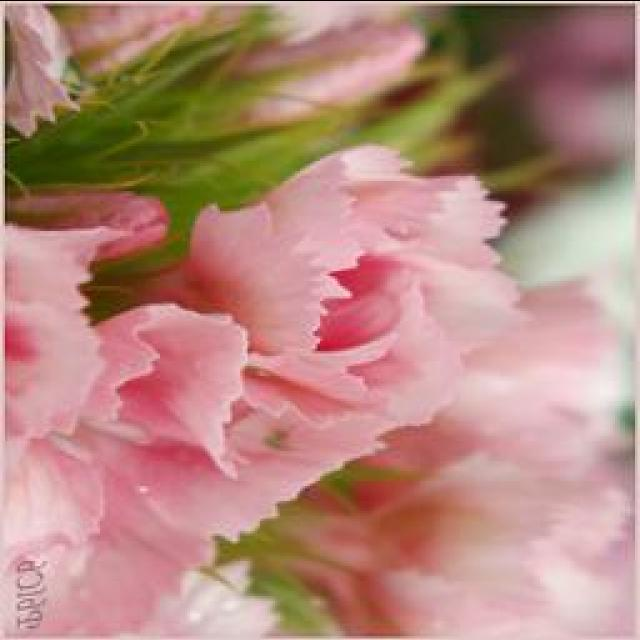carnation: (187, 150, 553, 444)
